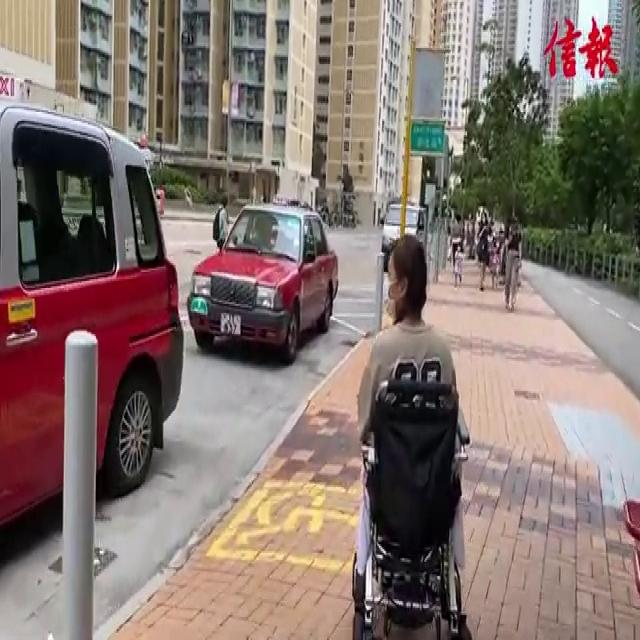wheelchairs: (342, 368, 483, 634)
